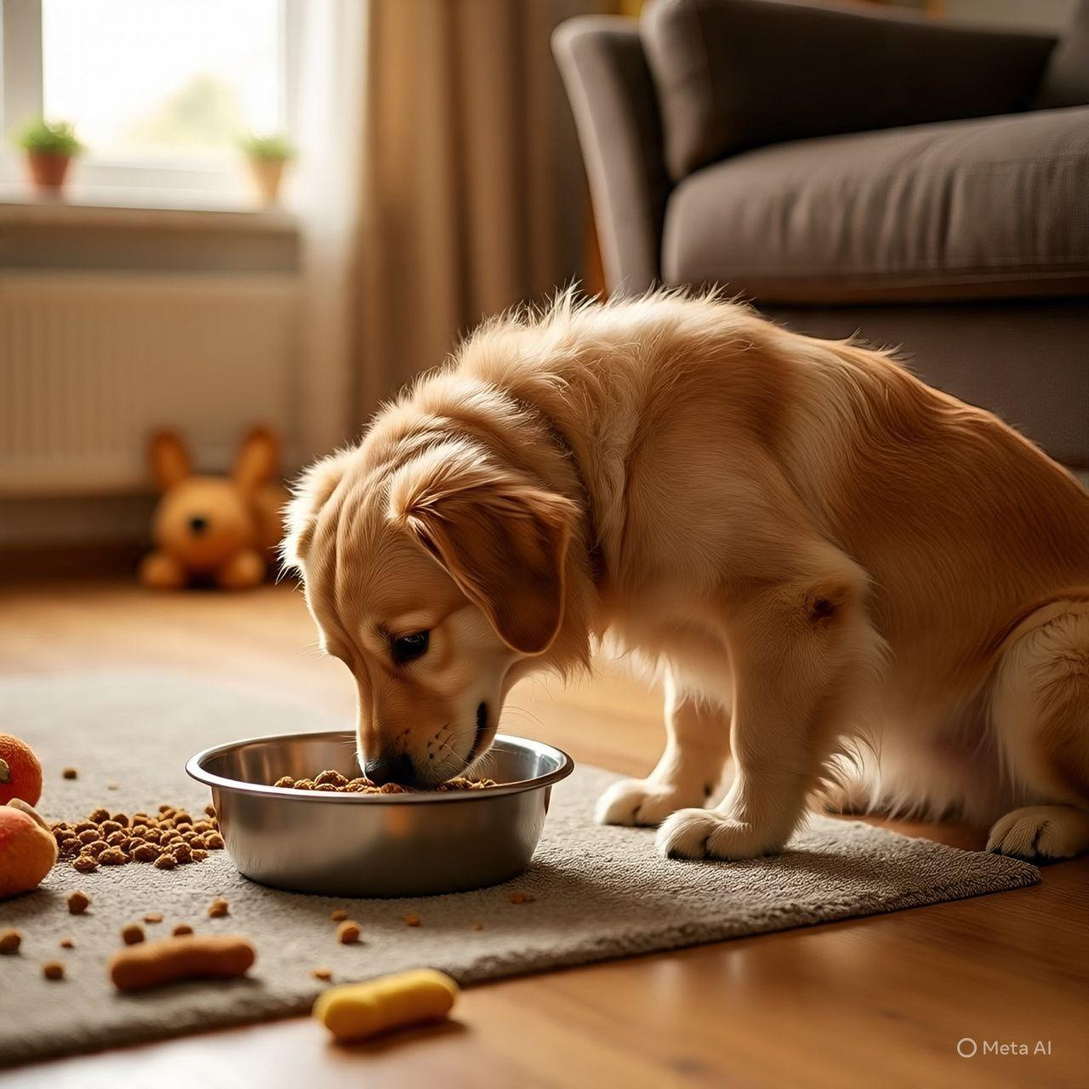adult_dog: (274, 278, 1089, 869)
non-dog: (138, 422, 285, 594)
